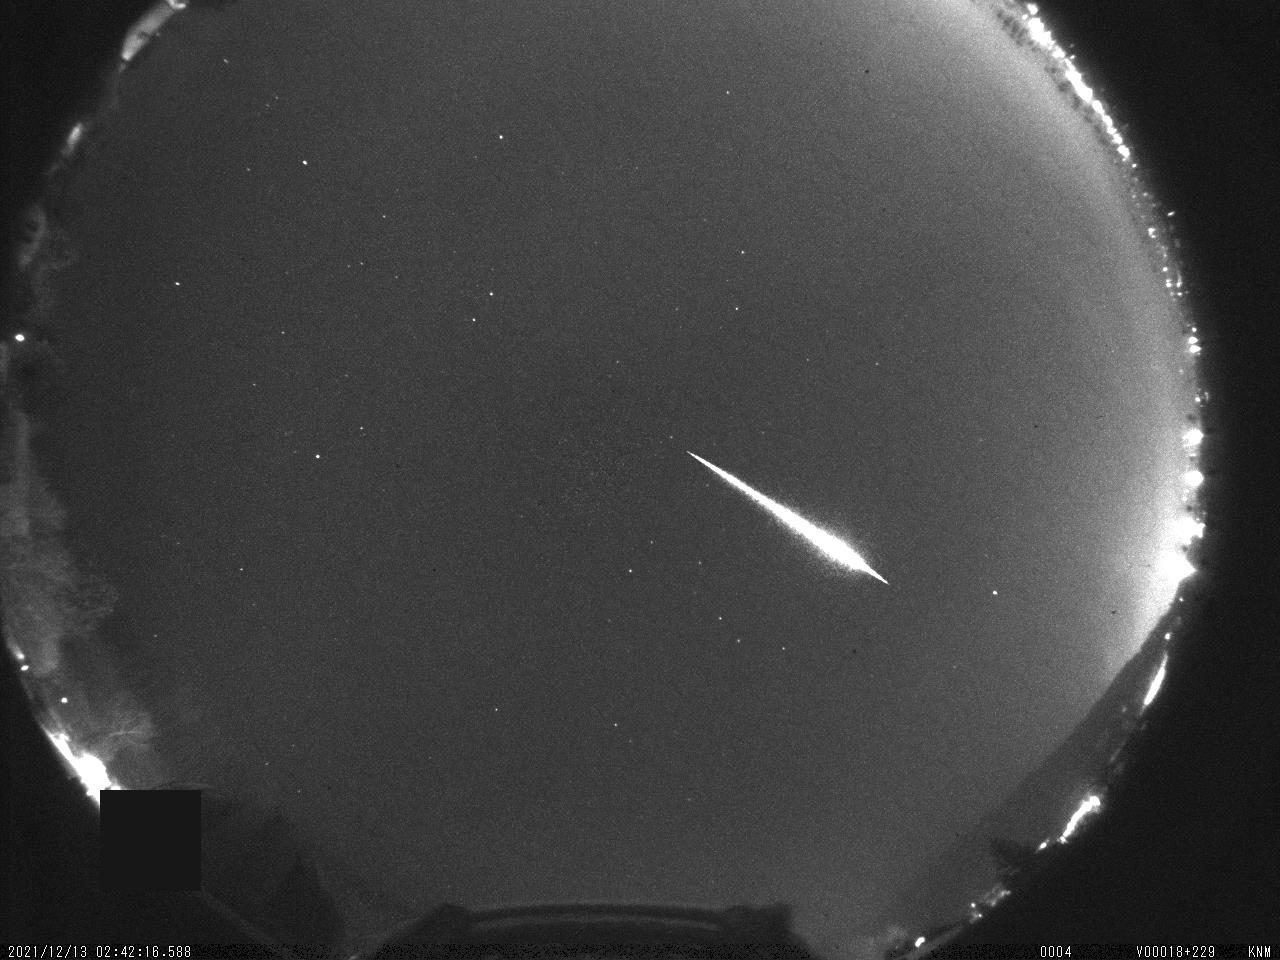meteor: (641, 418, 938, 606)
